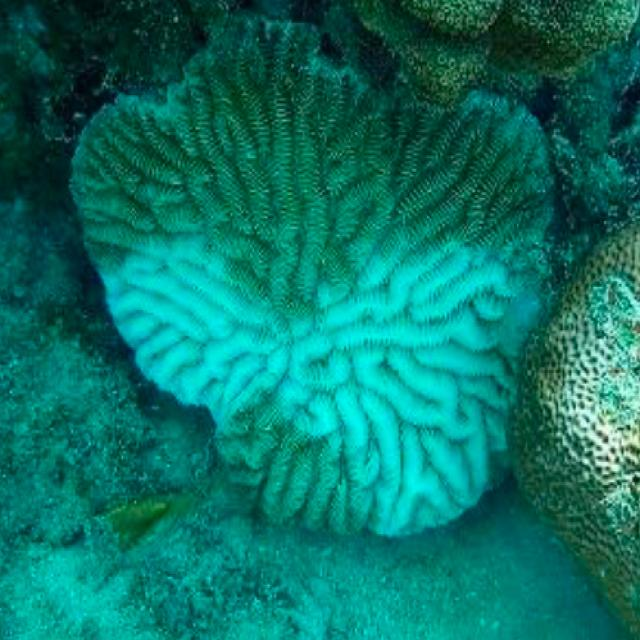Coral: (68, 19, 558, 538), (505, 219, 640, 640), (345, 0, 640, 109)
